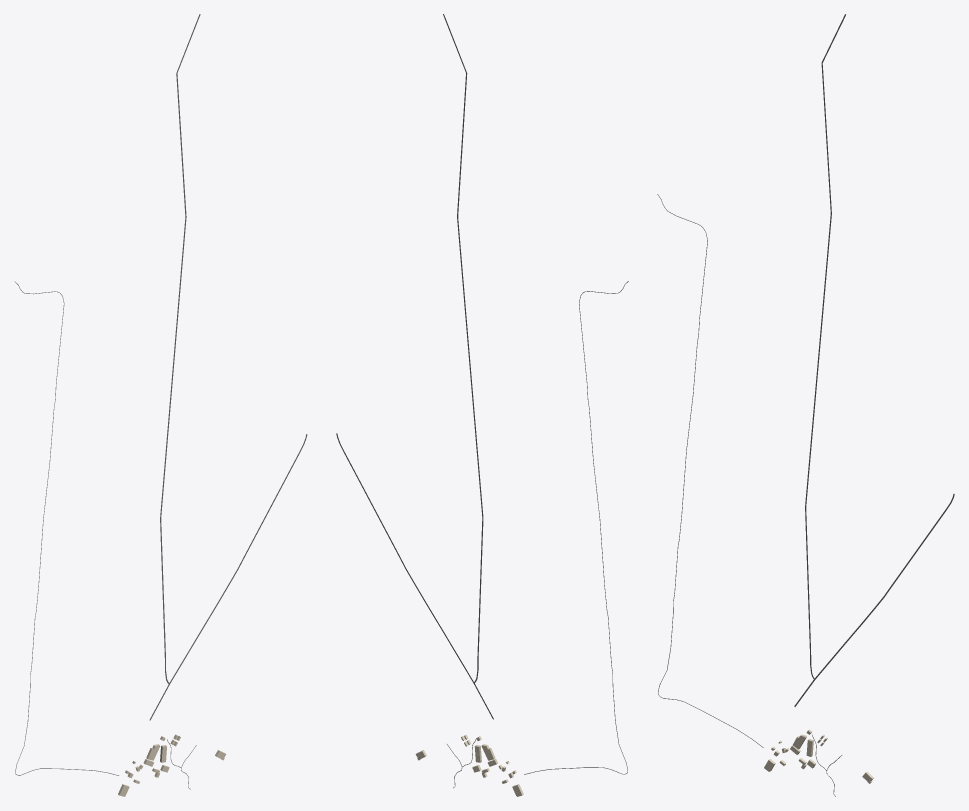
Rendered from historic-palestine-16_37_3581_3311.glb.
3 views of the same model, side by side, from view 1: azimuth 30°, elevation 25°; view 2: azimuth 150°, elevation 25°; view 3: azimuth 330°, elevation 25° (orthographic).
Parts seen in each view (by area): view 1: Road .001, Road .003; view 2: Road .001, Road .003; view 3: Road .001, Road .003.
Part boxes in pixels (x1,y1,x2,y2): Road .001: [160, 14, 200, 683]; Road .003: [14, 281, 118, 775]; Road .001: [443, 14, 483, 683]; Road .003: [524, 281, 628, 774]; Road .001: [805, 14, 845, 679]; Road .003: [657, 194, 763, 747].
Size of the model in its own units: 791 by 1994 by 8.7.
